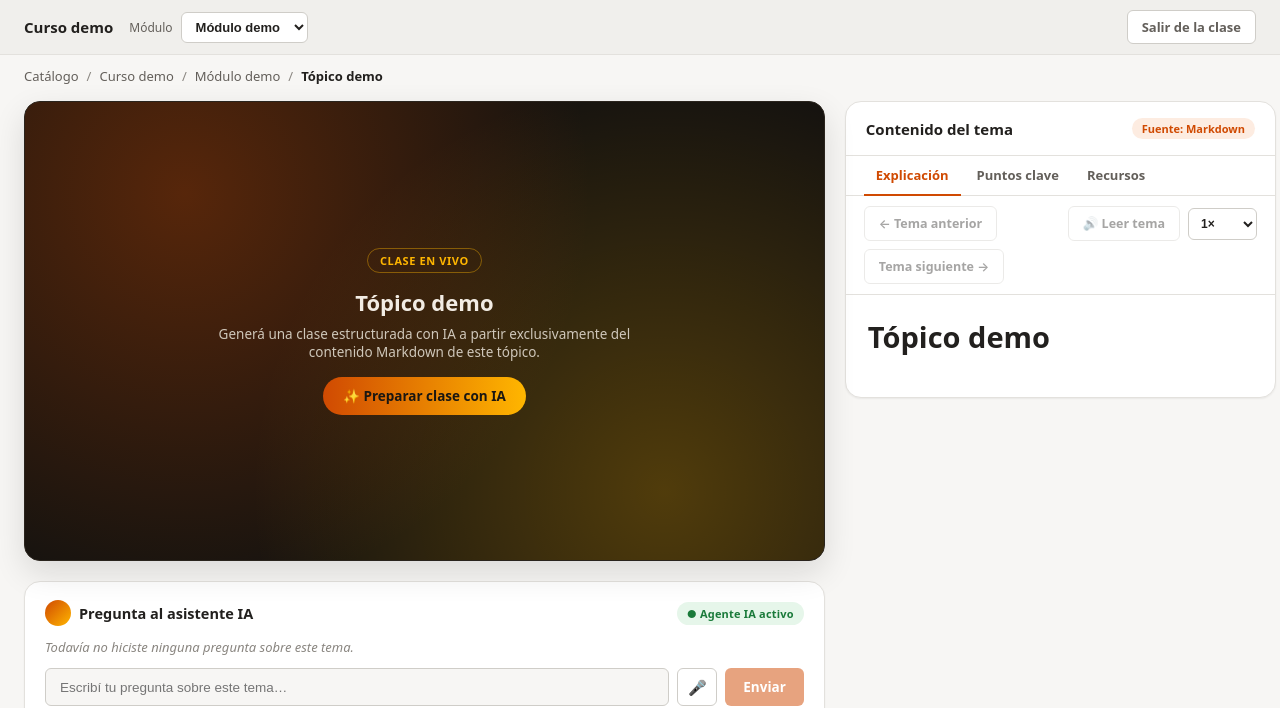
ClassroomPage — v1.1.0 UX de doble submit y mensajes de espera › con ?review=true muestra el badge 'Repaso' sin generar una LessonPlan distinta
This screenshot has width=1280, height=708.
Click the button "✨ Preparar clase con IA": (424, 396) left=323, top=376, right=526, bottom=414
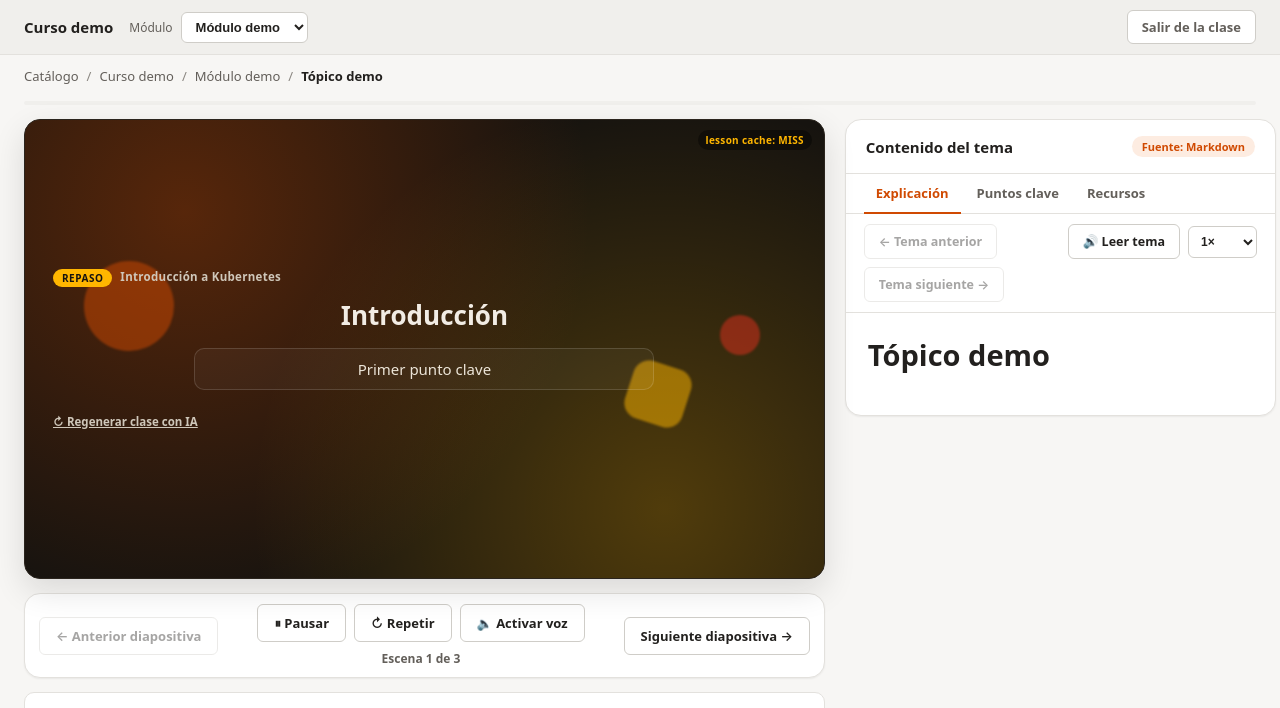
Expected: the text "Introducción a Kubernetes" is shown, left=120, top=269, right=281, bottom=284
Expected: the text "Repaso" is shown, left=53, top=269, right=112, bottom=287
